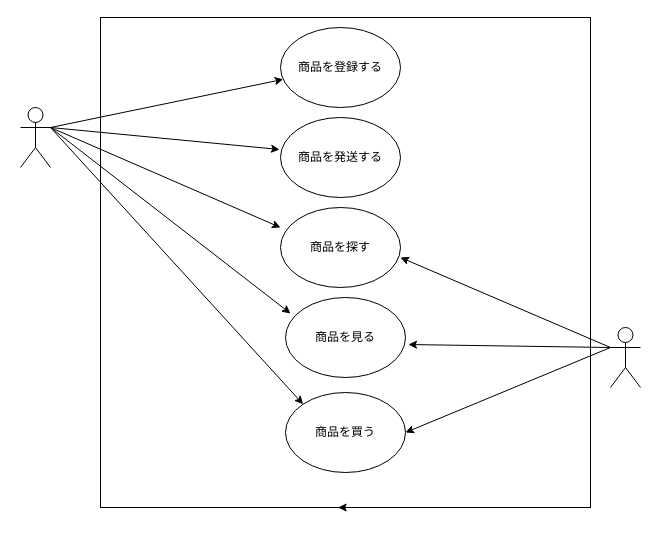
The diagram is 660 pixels wide and 533 high, and some of its shapes have lost their labels. The centre of each missing label's shape, as x and y in pixels:
監理者: the point at 35,137
購入者: the point at 625,357
